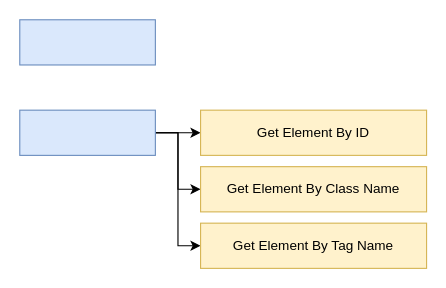
Image size: 446x288. Some labels were removed from this diagram. The box of each missing label's shape, as (x1, y1, x2, y2) in pixels:
DOM: (19, 109, 155, 155)
Element: (19, 19, 155, 65)
